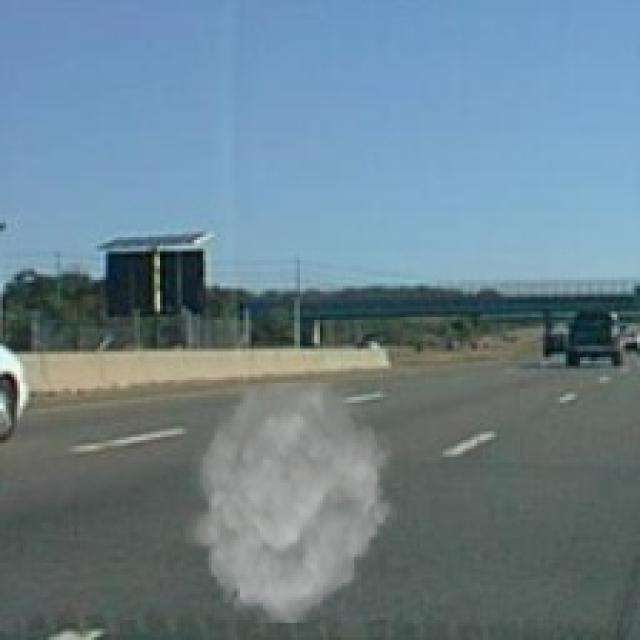Smoke: (183, 383, 400, 623)
